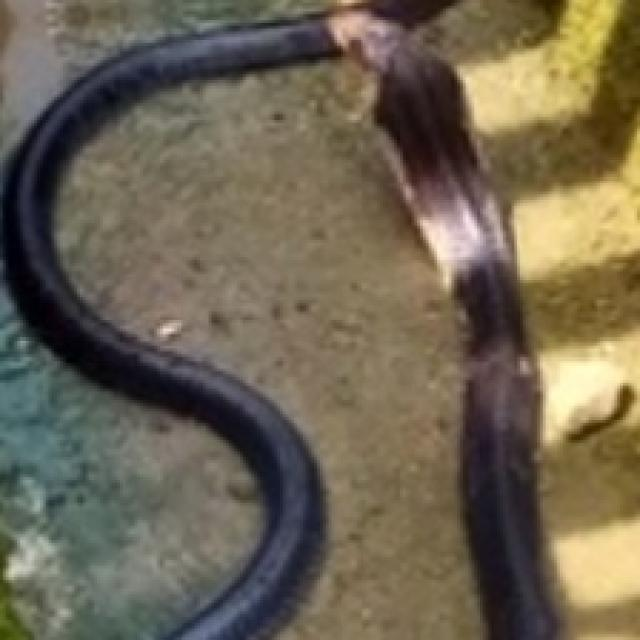king cobra: (4, 21, 332, 639), (332, 12, 556, 639)
